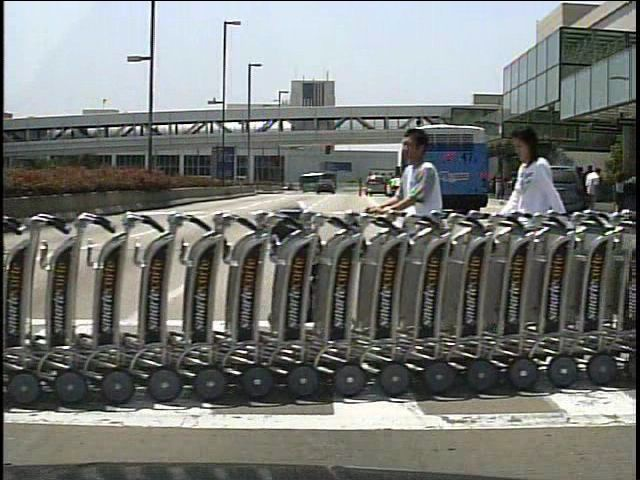person: (363, 120, 461, 365), (503, 115, 559, 327), (581, 163, 598, 214), (585, 165, 601, 215), (358, 176, 366, 196)
